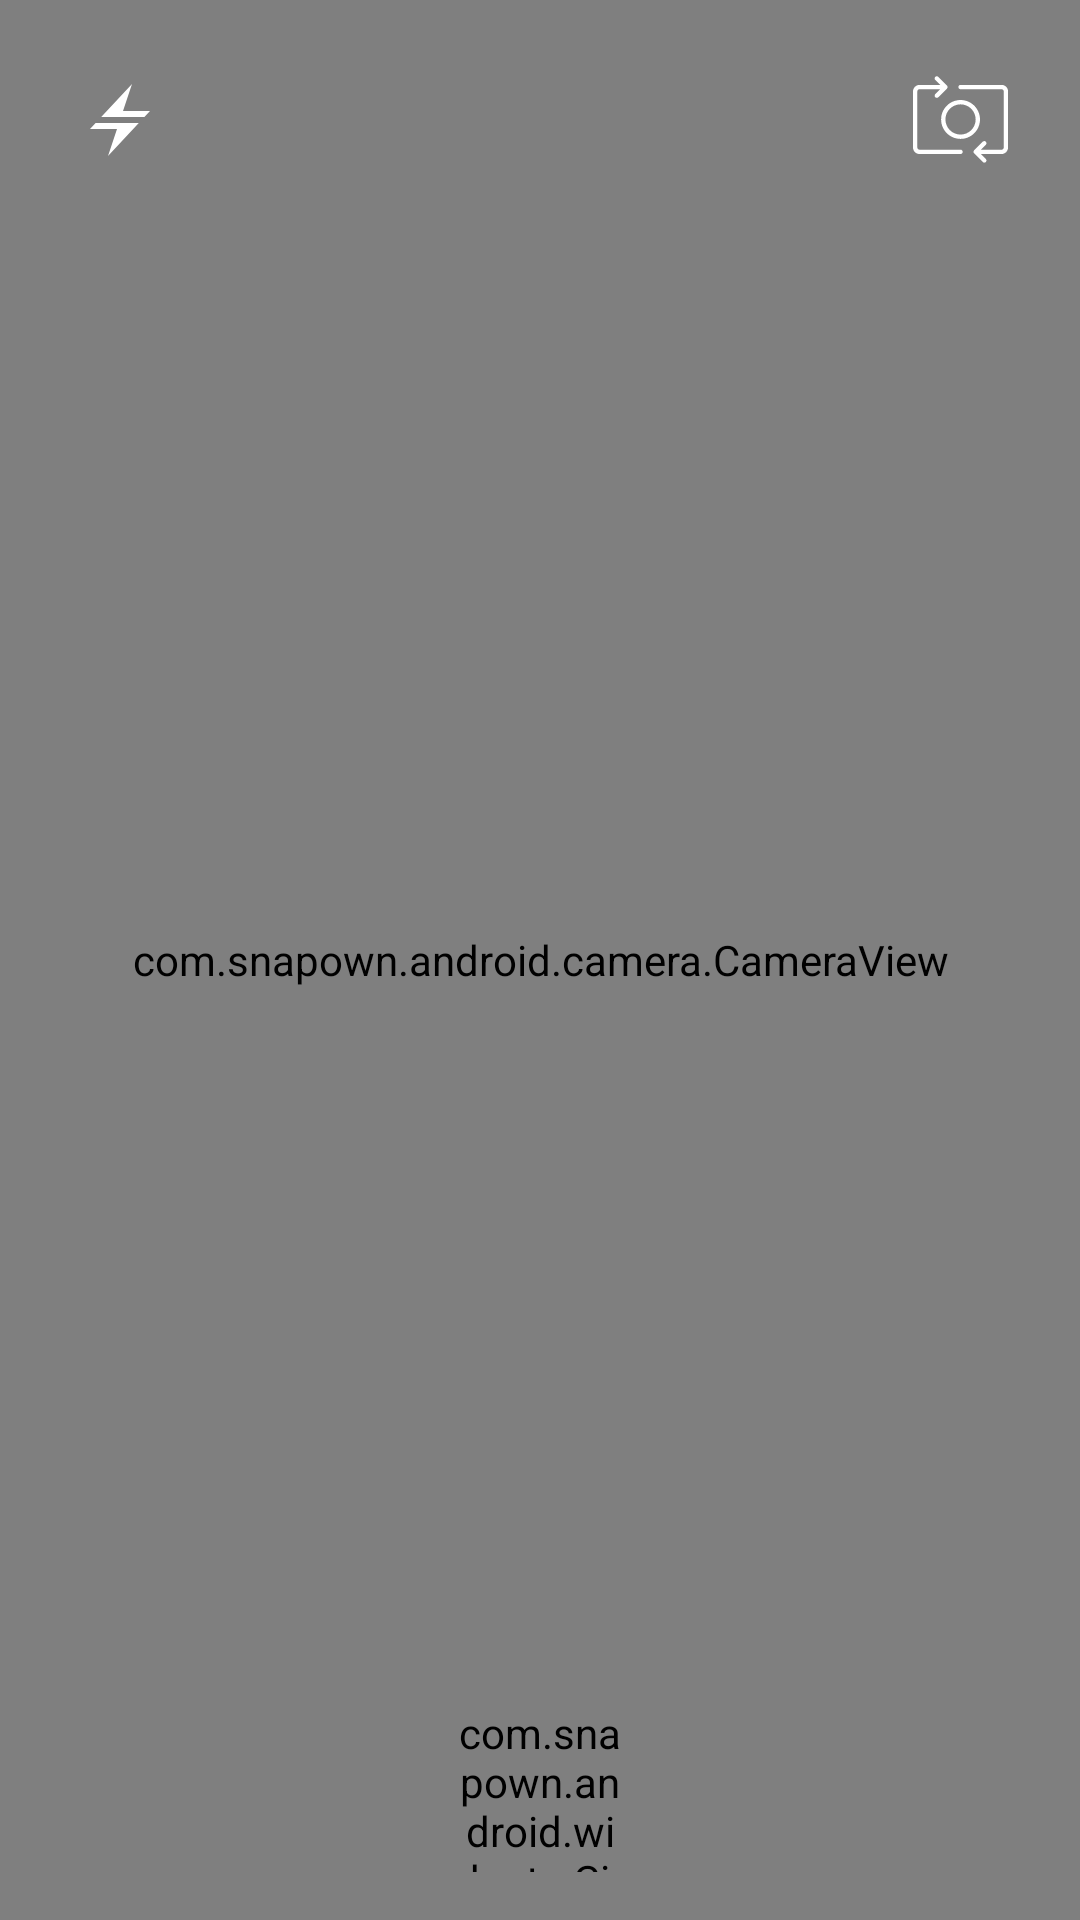

Screen size 1080×1920. Icon name, then its box in pixels as [x1, y1, x2, y2]:
flash on: [90, 84, 150, 156]
switch camera: [913, 76, 1008, 163]
